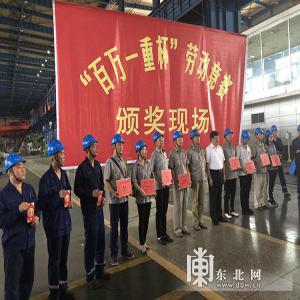blue: (6, 154, 27, 187), (49, 138, 67, 169), (82, 135, 99, 161), (112, 134, 126, 157), (136, 142, 148, 162), (154, 133, 166, 151), (173, 132, 185, 150), (191, 129, 202, 146), (225, 129, 235, 146), (241, 131, 251, 146), (255, 128, 265, 143), (266, 131, 274, 146), (271, 125, 279, 139)
none: (210, 131, 221, 147)
